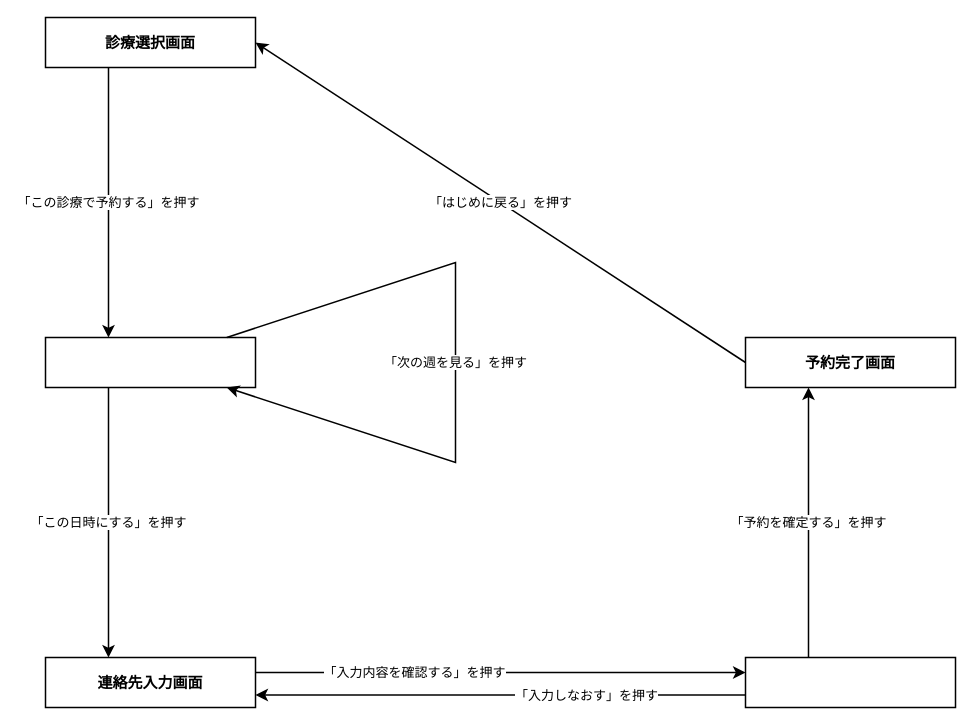
Some shapes in this 973 by 726 pixel diagram are drawn without their labels. The shapes that lost their labels are listed below. From the top down, each one's centre as x and y in pixels, then its label:
At pixel 150 362: "日時選択画面".
At pixel 850 682: "予約内容確認画面".
